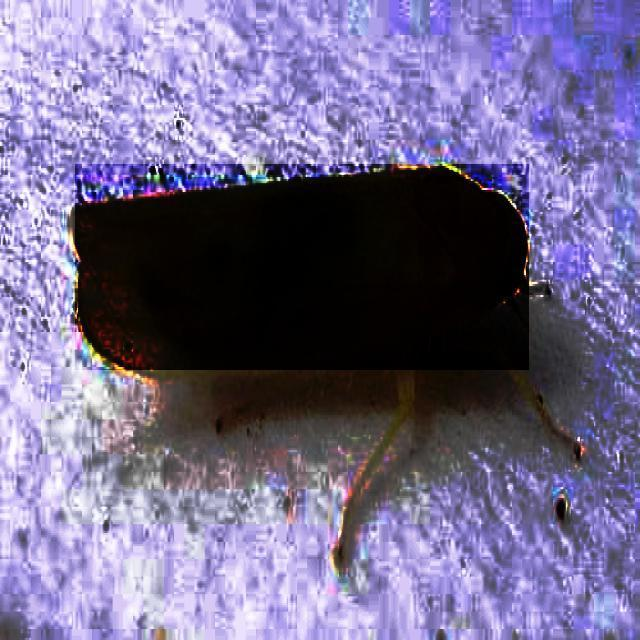green-leafhopper: (75, 164, 529, 370)
